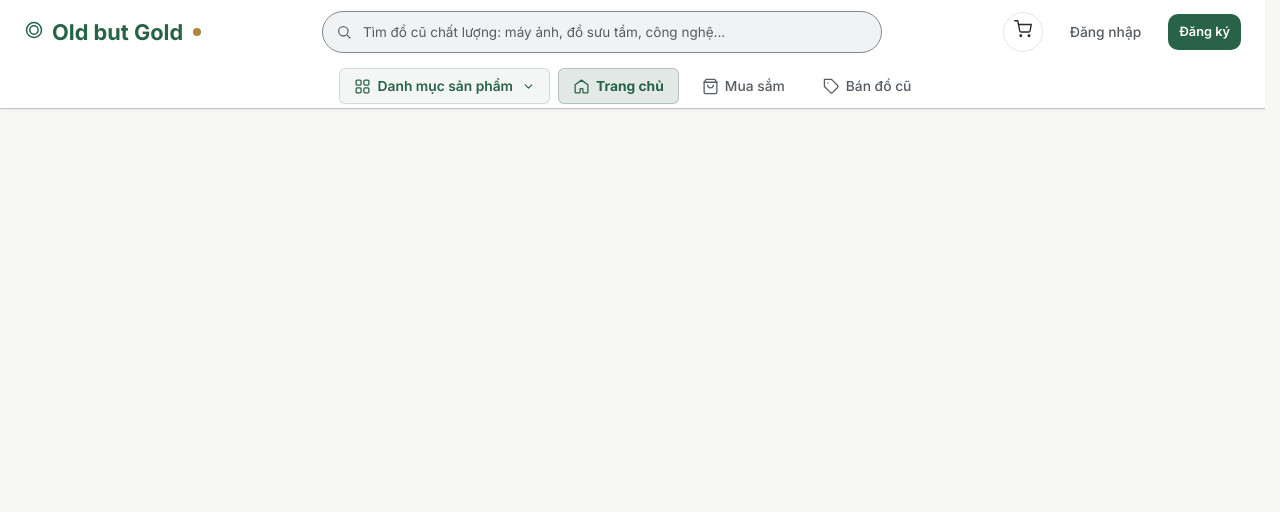
Test: AppHeader Component › renders "Trang chủ" tab and category dropdown with auto-hover behavior
The image size is (1280, 512).
(page scrolled)
Expected: the link "Trang chủ" is shown, [558, 68, 679, 104]
Hover over the element "Danh mục sản phẩm" at (444, 86), box [339, 68, 550, 104]
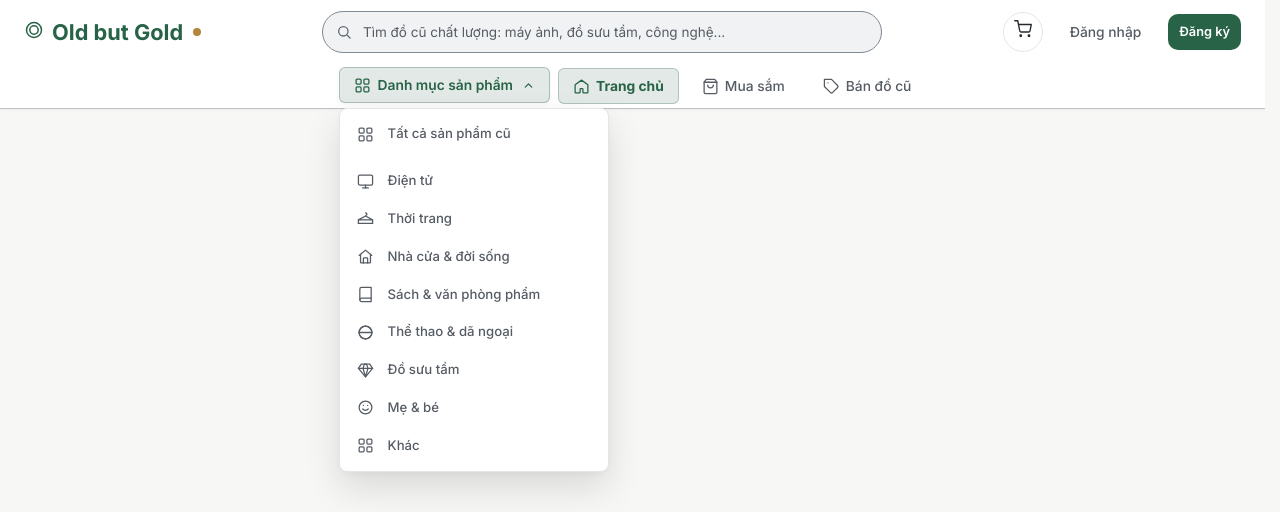
Expected: the menu item "Tất cả sản phẩm cũ" is shown, [340, 115, 608, 153]
Expected: the menu item "Điện tử" is shown, [340, 162, 608, 200]
Expected: the menu item "Thời trang" is shown, [340, 200, 608, 238]
